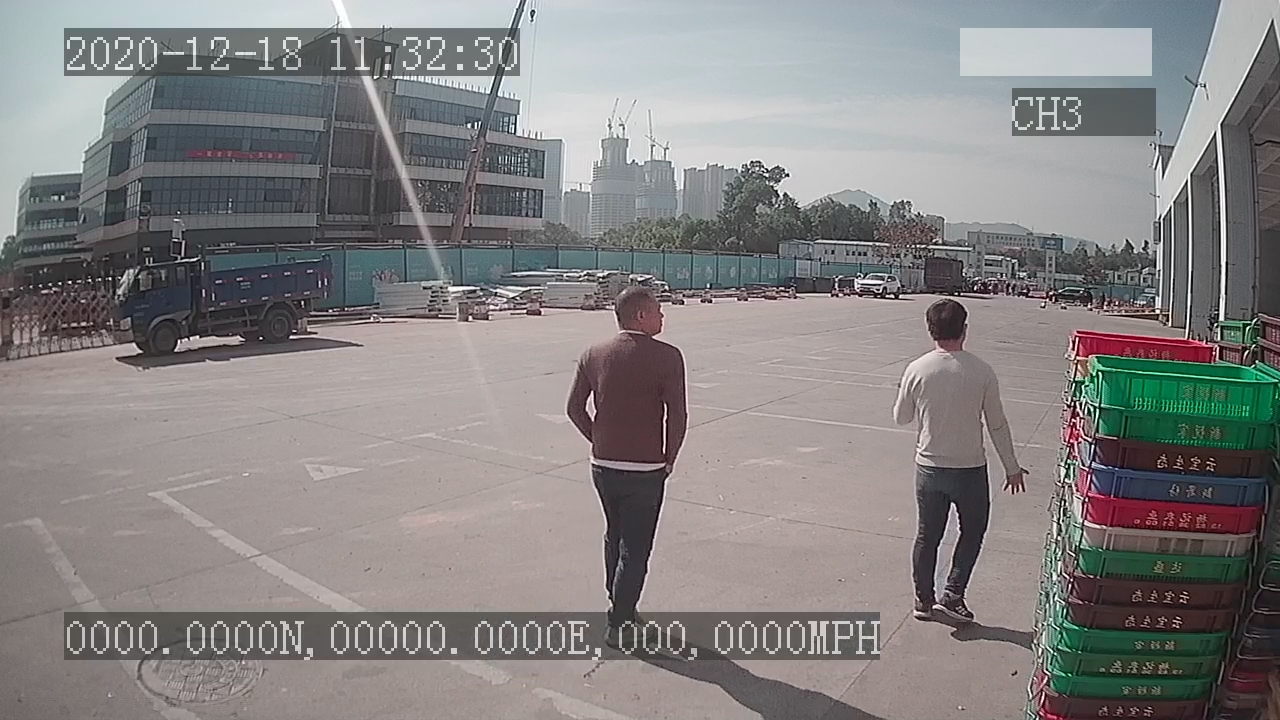person: (894, 296, 1032, 623)
